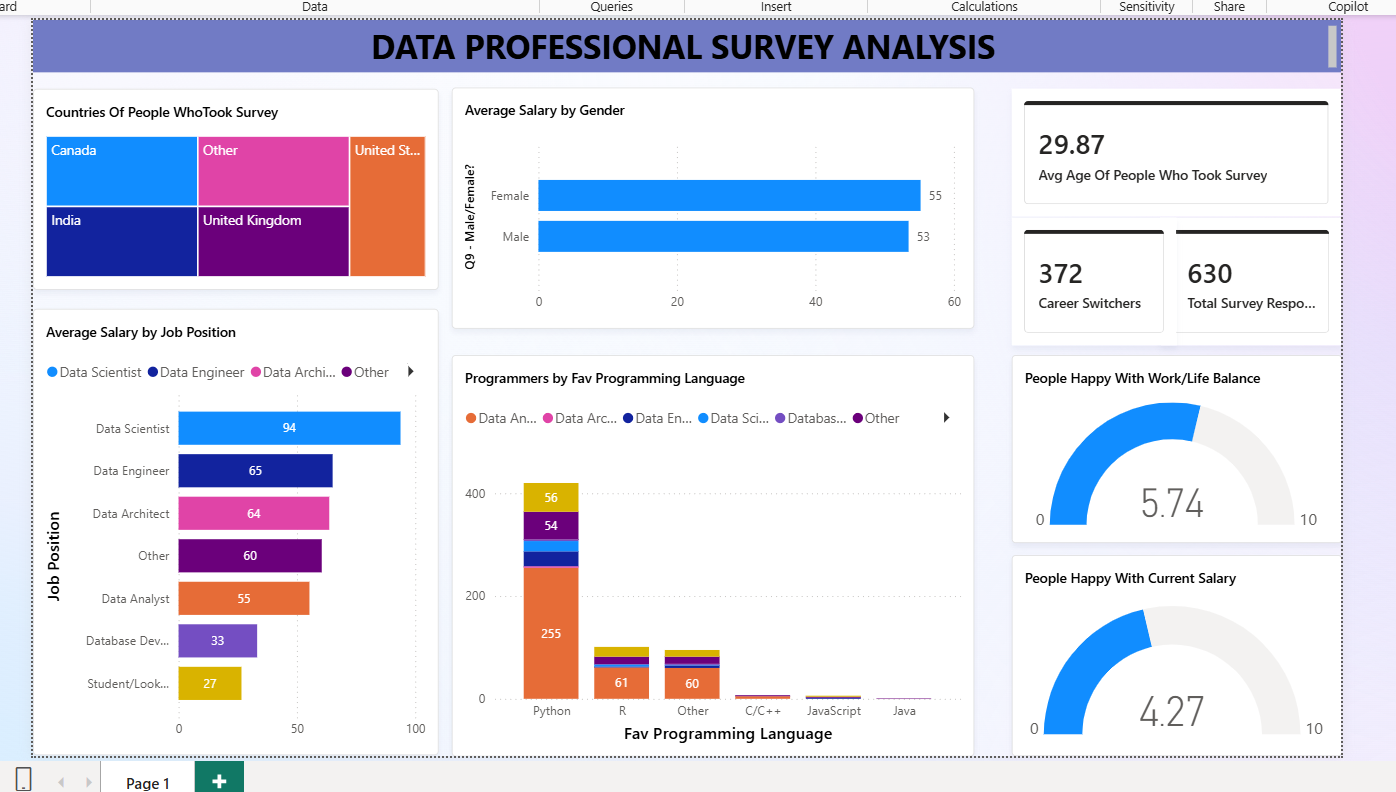

Layout of this report page (visuals, bound fields, positions):
{"tool":"powerbi","page":{"name":"Page 1","canvas":[1280,720],"ordinal":0},"visuals":[{"type":"textbox","box":[0,0,1280,51.4],"z":0},{"type":"cardVisual","fields":{"Data":["Avg(Data Professional Survey.Q10 - Current Age)"]},"box":[957.1,67.1,322.9,125.7],"z":1000},{"type":"barChart","title":"Average Salary by Job Position","fields":{"Category":["Data Professional Survey.Q1 - Which Title Best Fits your Current Role?.1"],"Y":["Avg(Data Professional Survey.Average Salary)"],"Series":["Data Professional Survey.Q1 - Which Title Best Fits your Current Role?.1"]},"box":[0,282.9,397.1,437.1],"z":2000},{"type":"columnChart","title":"Programmers by Fav Programming Language","fields":{"Category":["Data Professional Survey.Q5 - Favorite Programming Language.1"],"Y":["CountNonNull(Data Professional Survey.Unique ID)"],"Series":["Data Professional Survey.Q1 - Which Title Best Fits your Current Role?.1"]},"box":[410,327.1,511.4,392.9],"z":3000},{"type":"treemap","title":"Countries Of People WhoTook Survey","fields":{"Group":["Data Professional Survey.Q11 - Which Country do you live in?.1"],"Values":["Count(Data Professional Survey.Q11 - Which Country do you live in?.1)"]},"box":[0,67.1,397.1,197.1],"z":4000},{"type":"gauge","title":"People Happy With Work/Life Balance","fields":{"Y":["Avg(Data Professional Survey.Q6 - How Happy are you in your Current Position with the following? (Work/Life Balance))"],"MinValue":["Min(Data Professional Survey.Q6 - How Happy are you in your Current Position with the following? (Work/Life Balance))1"],"MaxValue":["Max(Data Professional Survey.Q6 - How Happy are you in your Current Position with the following? (Work/Life Balance))2"]},"box":[957.1,327.1,322.9,184.3],"z":5000},{"type":"gauge","title":"People Happy With Current Salary","fields":{"Y":["Avg(Data Professional Survey.Q6 - How Happy are you in your Current Position with the following? (Salary))"],"MinValue":["Min(Data Professional Survey.Q6 - How Happy are you in your Current Position with the following? (Salary))1"],"MaxValue":["Max(Data Professional Survey.Q6 - How Happy are you in your Current Position with the following? (Salary))2"]},"box":[957.1,522.9,322.9,197.1],"z":6000},{"type":"clusteredBarChart","title":"Average Salary by Gender","fields":{"Category":["Data Professional Survey.Q9 - Male/Female?"],"Y":["Avg(Data Professional Survey.Average Salary)"]},"box":[410,65.7,511.4,235.7],"z":7000},{"type":"cardVisual","fields":{"Data":["Data Professional Survey.Total Survey Responses"]},"box":[1103,193.2,177.3,126],"z":8000},{"type":"cardVisual","fields":{"Data":["Data Professional Survey.Career Switchers"]},"box":[957.5,193.2,161.4,126],"z":9000}]}

Visuals, with their boxes on the page's 1280x720 design canvas (x1, y1, x2, y2). These are canvas units, not pixel positions in the 1396x792 screenshot, which may show the page scaled, cropped or inside an application window:
textbox: Rect(0, 0, 1280, 51)
cardVisual - Avg(Data Professional Survey.Q10 - Current Age): Rect(957, 67, 1280, 193)
"Average Salary by Job Position" barChart: Rect(0, 283, 397, 720)
"Programmers by Fav Programming Language" columnChart: Rect(410, 327, 921, 720)
"Countries Of People WhoTook Survey" treemap: Rect(0, 67, 397, 264)
"People Happy With Work/Life Balance" gauge: Rect(957, 327, 1280, 511)
"People Happy With Current Salary" gauge: Rect(957, 523, 1280, 720)
"Average Salary by Gender" clusteredBarChart: Rect(410, 66, 921, 301)
cardVisual - Data Professional Survey.Total Survey Responses: Rect(1103, 193, 1280, 319)
cardVisual - Data Professional Survey.Career Switchers: Rect(958, 193, 1119, 319)
